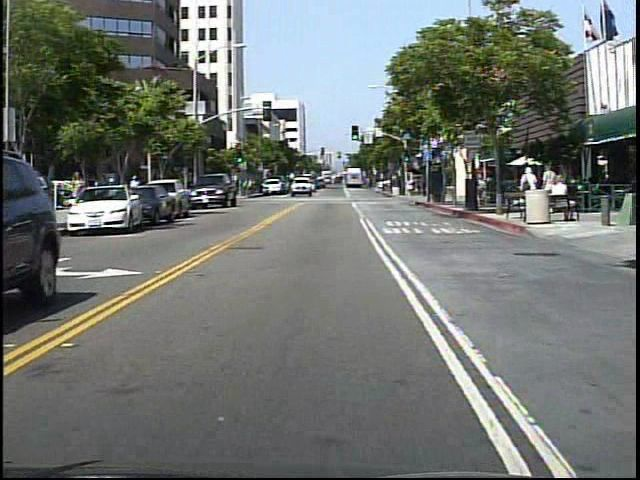person: (68, 167, 87, 218), (243, 176, 256, 201)
